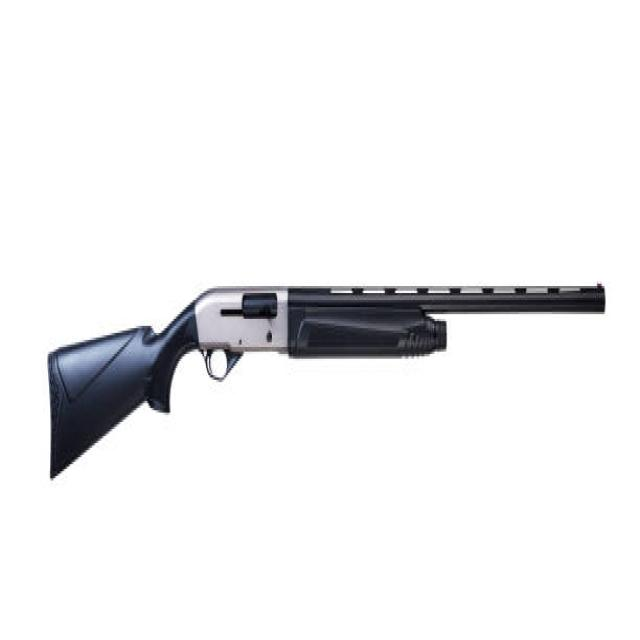rifle: (44, 255, 612, 489)
